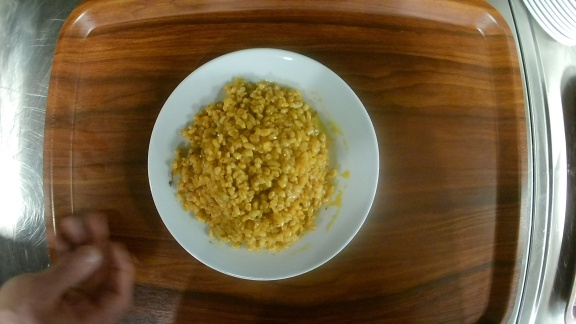bulgur: (148, 48, 380, 280)
